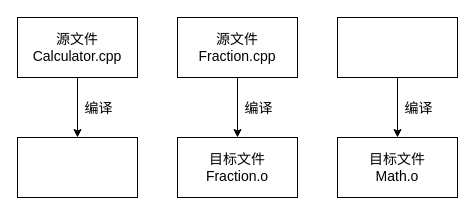
This 475x215 diagram has some shape labels left out. The shapes that lost their labels are listed below. From the top down, each one's box as (x1, y1, x2, y2) in pixels, then its label:
(336, 16, 458, 78): 源文件 Math.cpp
(16, 136, 138, 198): 目标文件 Calculator.o
